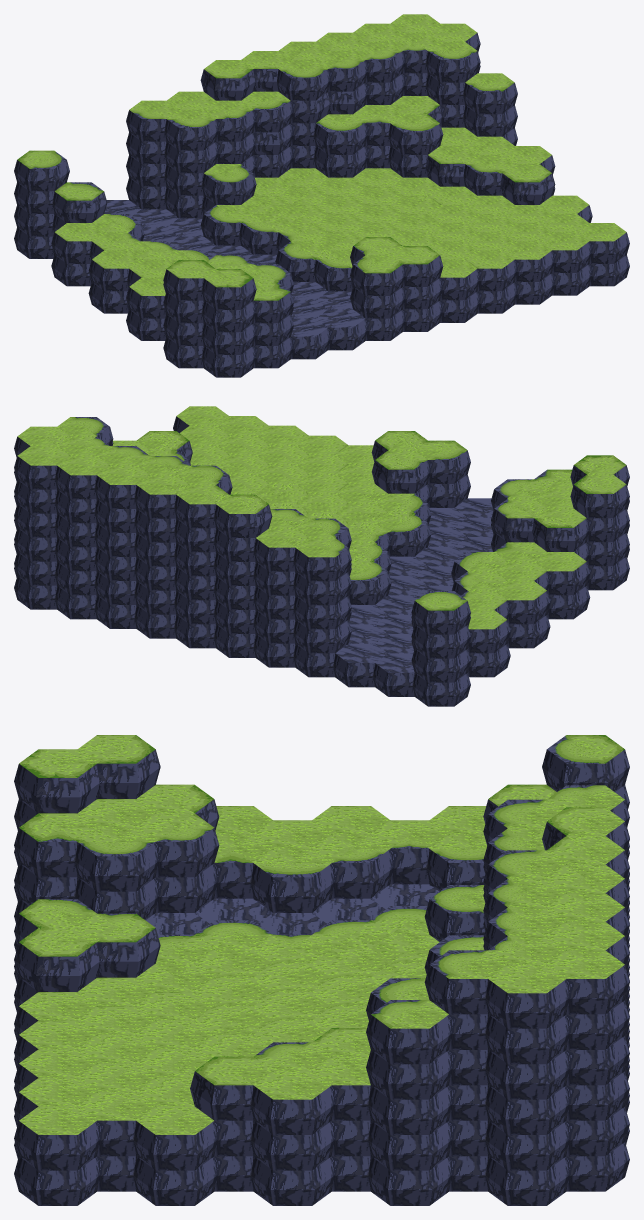
Rendered from ForestLevel1.fbx.
The picture shows the model from 3 angles, top to bottom: view 1: azimuth 30°, elevation 25°; view 2: azimuth 150°, elevation 25°; view 3: azimuth 270°, elevation 25°; orthographic projection. The views are drawn at different scales.
Parts seen in each view (by area): view 1: HexTile.001; view 2: HexTile.001; view 3: HexTile.001.
Boxes of the visible parts, x1,y1,x2,y2 form: HexTile.001: [14, 14, 629, 377]; HexTile.001: [14, 406, 629, 706]; HexTile.001: [14, 735, 629, 1205].
Bounding box in the file's own units: 2014 × 600 × 1575.
